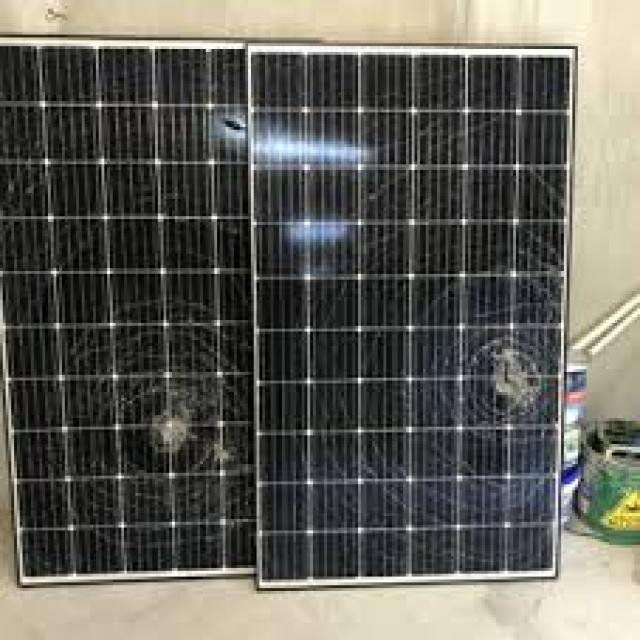faulty: (243, 53, 564, 580), (0, 41, 249, 588)
